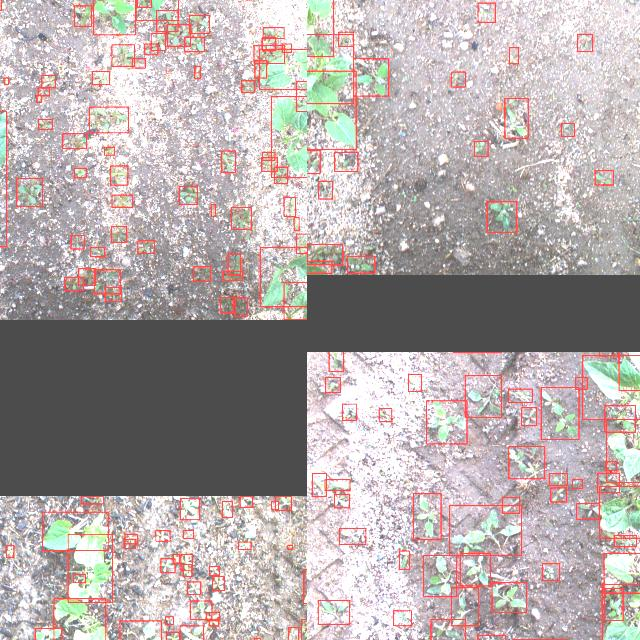crop: (307, 70, 355, 149), (583, 355, 640, 419), (307, 33, 353, 103), (68, 534, 112, 602), (272, 95, 307, 176), (260, 247, 307, 306), (42, 510, 108, 550), (54, 597, 106, 640), (602, 583, 640, 640), (606, 418, 640, 481), (599, 486, 640, 538), (259, 48, 307, 88), (307, 0, 334, 56), (603, 553, 640, 593), (284, 282, 307, 319), (618, 352, 640, 389)
weed: (449, 505, 521, 555), (541, 387, 579, 439), (427, 401, 467, 444), (464, 375, 502, 417), (93, 0, 135, 34), (424, 555, 456, 597), (354, 58, 388, 96), (413, 493, 441, 539), (509, 446, 545, 478), (460, 552, 490, 586), (492, 582, 526, 612), (90, 106, 128, 132), (452, 587, 478, 625), (504, 97, 528, 137), (487, 202, 517, 232), (604, 404, 636, 432), (119, 620, 160, 640), (135, 0, 178, 19), (307, 243, 343, 264), (318, 600, 349, 624), (430, 619, 465, 640), (17, 178, 43, 206), (604, 588, 624, 620), (94, 270, 120, 294), (254, 44, 284, 62), (112, 44, 134, 66), (168, 23, 190, 45), (334, 151, 358, 171), (347, 255, 375, 272), (231, 207, 251, 229), (156, 10, 178, 30), (180, 497, 200, 519), (597, 472, 619, 492), (340, 528, 366, 544), (190, 600, 212, 618), (63, 132, 87, 148), (576, 503, 600, 519), (295, 81, 307, 111), (189, 14, 209, 32), (74, 5, 92, 25), (180, 625, 204, 640), (34, 627, 61, 640), (508, 388, 532, 402), (312, 472, 326, 496), (179, 186, 197, 204), (110, 166, 128, 184), (478, 2, 494, 22), (222, 150, 236, 172), (78, 268, 95, 286), (307, 261, 332, 273), (307, 150, 320, 173), (393, 610, 411, 626), (542, 564, 560, 580), (502, 497, 520, 513), (185, 36, 205, 50), (594, 170, 614, 184), (150, 32, 166, 49), (193, 266, 210, 282), (328, 352, 343, 370), (614, 534, 636, 546), (324, 480, 350, 490), (338, 30, 354, 46), (342, 403, 358, 419), (92, 70, 110, 84), (274, 166, 288, 184), (111, 194, 132, 206), (228, 253, 240, 274), (318, 181, 332, 199), (522, 407, 536, 425), (262, 27, 284, 38), (284, 196, 296, 216), (64, 278, 84, 290), (295, 233, 307, 253), (408, 374, 422, 391), (235, 298, 248, 316), (112, 226, 126, 242), (105, 287, 121, 301), (474, 140, 488, 156), (578, 34, 592, 50), (450, 72, 466, 86), (275, 495, 291, 509), (326, 376, 340, 392), (334, 494, 350, 508), (551, 487, 567, 501), (398, 550, 409, 570), (549, 473, 567, 485), (138, 240, 154, 253), (220, 297, 233, 313), (223, 270, 243, 280), (70, 235, 84, 249), (262, 157, 276, 171), (262, 36, 276, 50), (561, 122, 575, 136), (161, 558, 175, 572), (378, 407, 392, 421), (255, 60, 267, 76), (180, 553, 192, 569), (81, 495, 103, 503), (42, 75, 56, 87), (144, 42, 158, 54), (188, 580, 200, 594), (212, 576, 224, 590), (222, 500, 232, 516), (242, 80, 254, 92), (509, 47, 518, 63), (90, 247, 104, 257), (132, 57, 146, 67), (38, 119, 52, 129), (156, 530, 170, 540), (124, 533, 138, 543), (289, 626, 299, 640), (478, 635, 506, 640), (301, 618, 307, 640), (74, 167, 86, 177), (124, 538, 136, 548), (240, 496, 252, 506), (576, 376, 586, 388), (166, 631, 179, 640), (207, 612, 220, 620), (282, 42, 292, 52), (572, 478, 582, 488), (606, 460, 616, 470), (263, 152, 275, 160), (6, 545, 14, 557), (238, 541, 250, 549), (73, 574, 85, 582), (184, 564, 192, 576), (39, 87, 50, 95), (137, 0, 151, 6), (104, 146, 114, 154), (209, 618, 219, 626), (209, 566, 219, 574), (183, 529, 193, 537), (194, 65, 200, 77), (165, 616, 173, 624), (294, 218, 298, 230), (211, 204, 215, 216), (173, 554, 179, 562), (272, 500, 278, 508), (36, 95, 42, 102), (4, 76, 8, 84), (288, 544, 292, 548)
